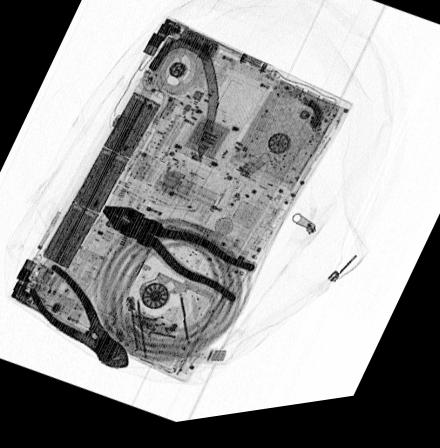Pliers: (100, 207, 259, 313), (29, 264, 131, 373)
